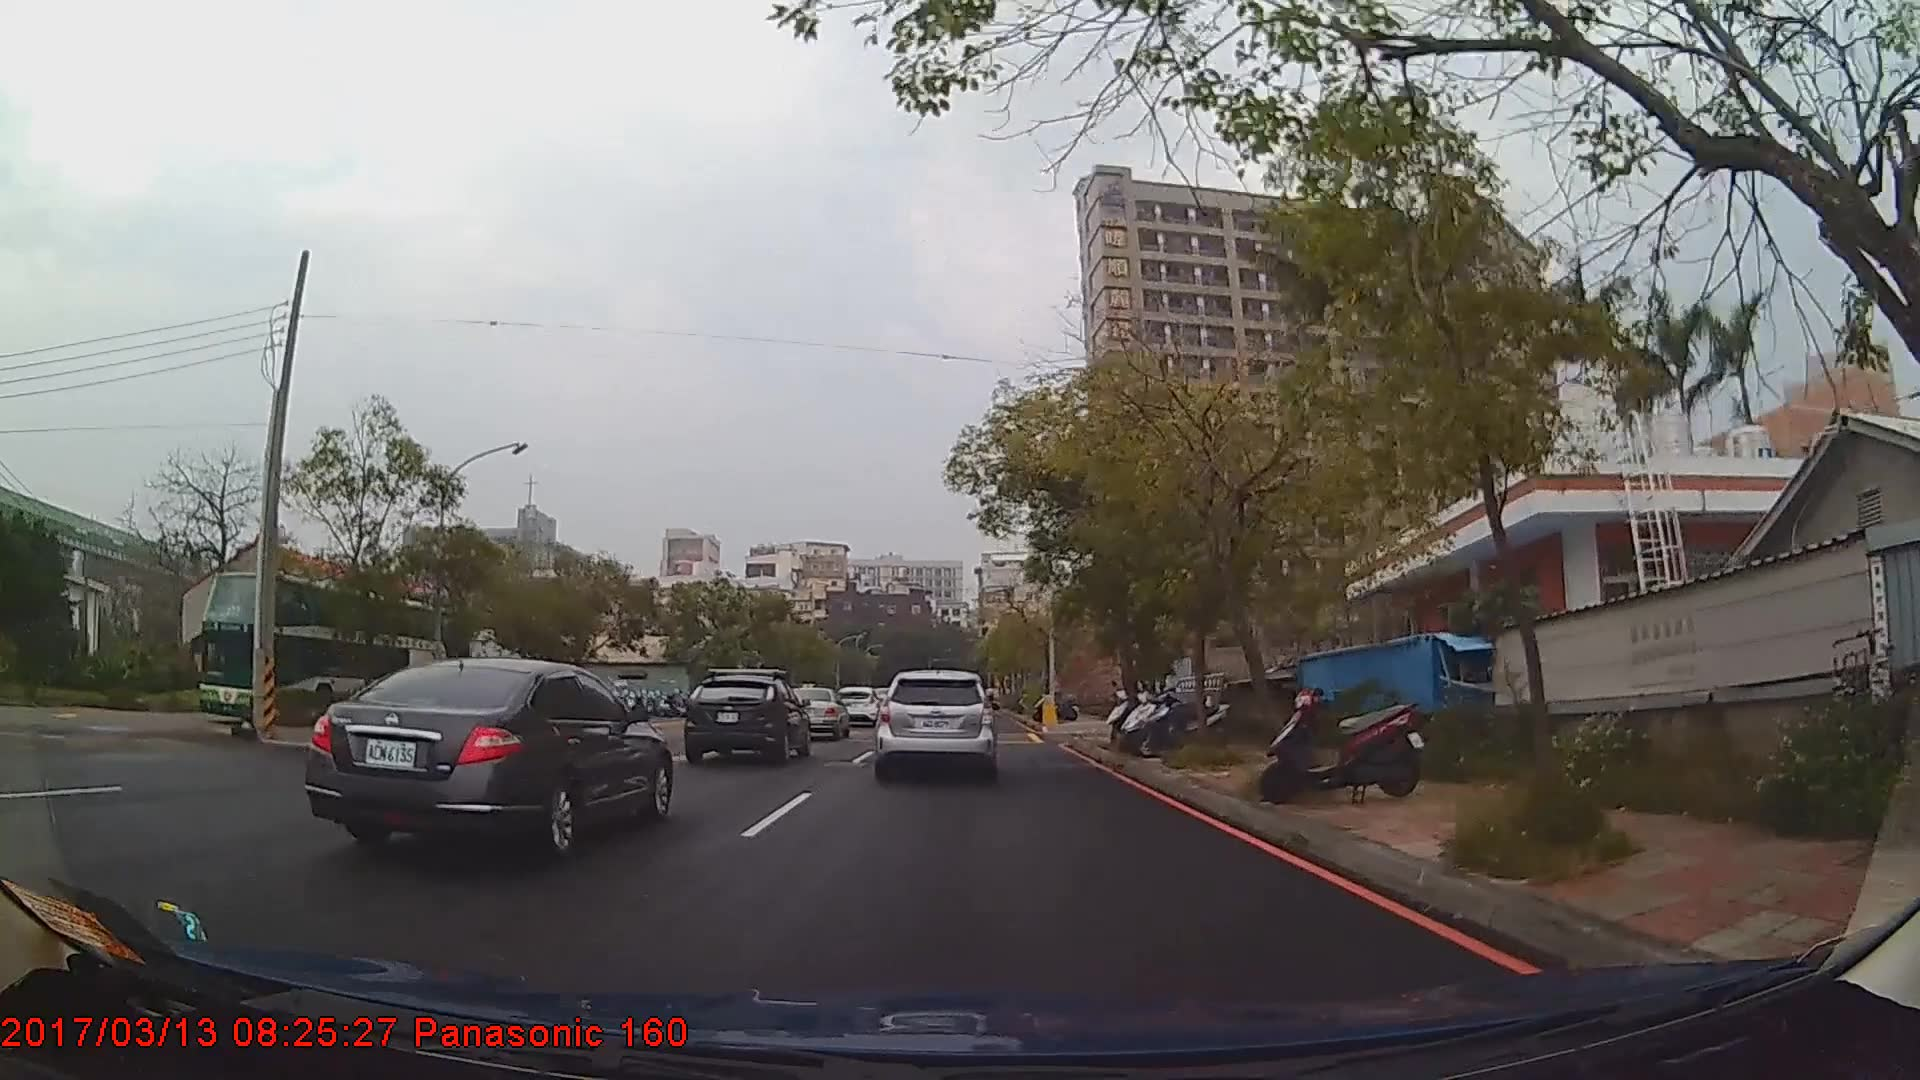vehicle: (305, 657, 673, 857), (195, 572, 442, 735), (876, 666, 996, 778), (682, 669, 810, 766), (786, 684, 849, 738), (835, 684, 881, 727)
